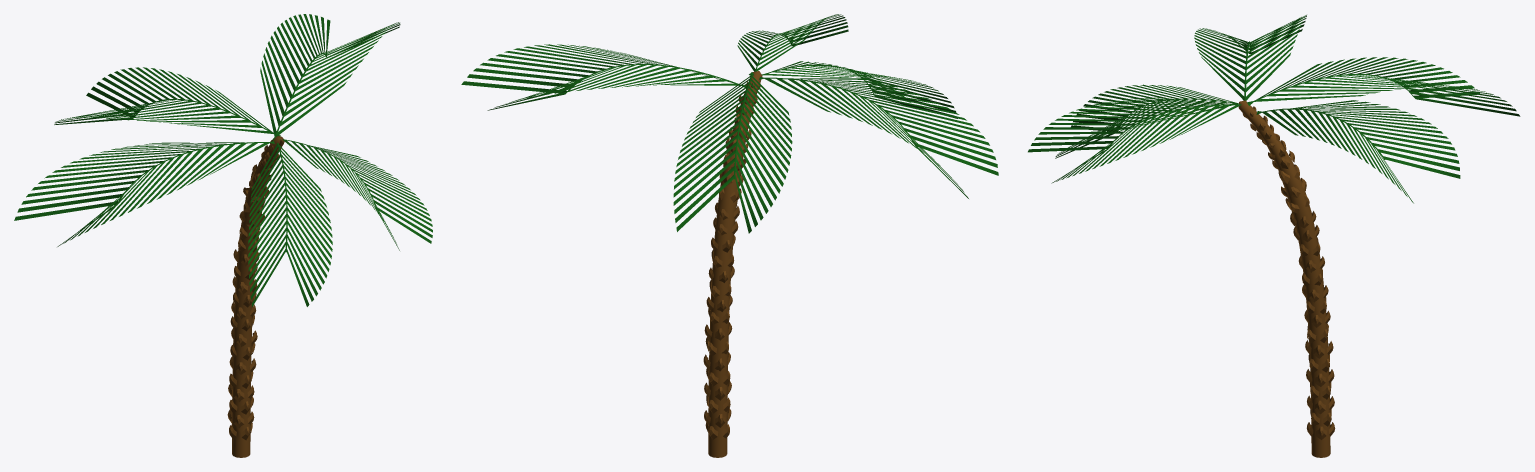
File: Palmera.gltf
3 views of the same model, side by side, from view 1: azimuth 30°, elevation 25°; view 2: azimuth 150°, elevation 25°; view 3: azimuth 270°, elevation 25° (orthographic). The views are drawn at different scales.
Visible parts, largest first — view 1: BezierCurve.005, BezierCurve.004; view 2: BezierCurve.005, BezierCurve.004; view 3: BezierCurve.005, BezierCurve.004.
Part boxes in pixels (bbox=[...]): BezierCurve.005: bbox=[14, 14, 432, 306]; BezierCurve.004: bbox=[227, 136, 284, 457]; BezierCurve.005: bbox=[461, 14, 998, 233]; BezierCurve.004: bbox=[703, 71, 762, 457]; BezierCurve.005: bbox=[1028, 15, 1520, 203]; BezierCurve.004: bbox=[1238, 100, 1335, 457].
Size of the model in its own units: 9.35 by 7.51 by 8.85.
